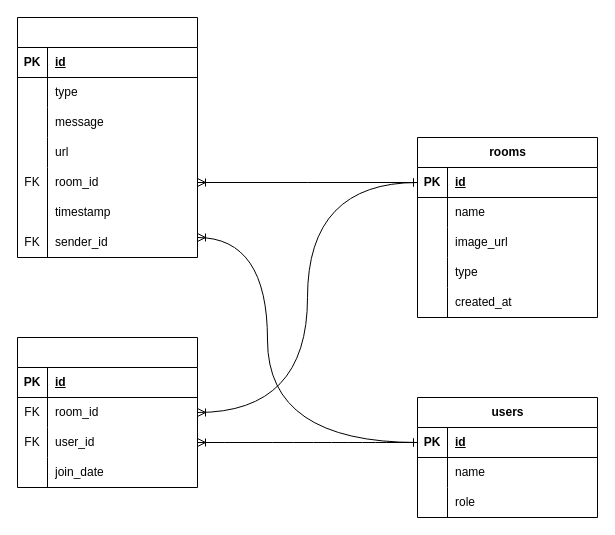
The diagram is 615 pixels wide and 535 high, and some of its shapes have lost their labels. The shapes that lost their labels are listed below. From the top down, each one's box as (x1, y1, x2, y2) in pixels, then its label:
(16, 16, 198, 258): messages
(16, 336, 198, 488): participant_links
